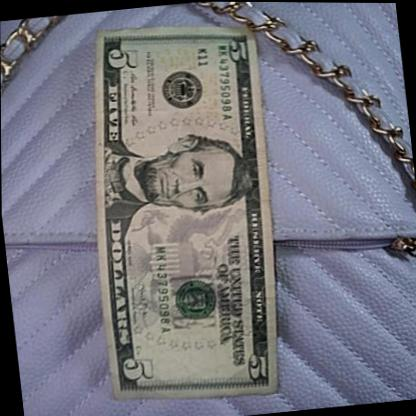five-front: (72, 11, 302, 411)
